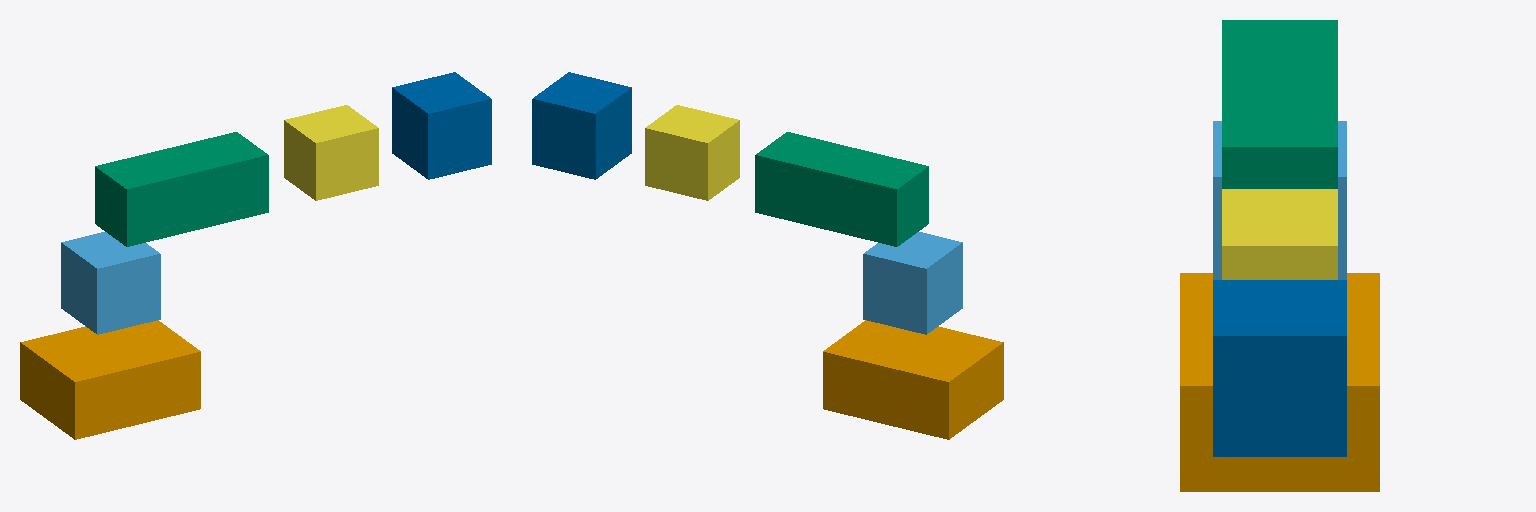
URDF robot description (twin_demo):
<?xml version="1.0"?>
<!-- Test robot for aprilfold twin: one joint of every supported type. -->
<robot name="twin_demo">
  <link name="base">
    <visual><origin xyz="0 0 0.035"/><geometry><box size="0.16 0.12 0.07"/></geometry></visual>
  </link>
  <link name="carriage">
    <visual><origin xyz="0 0 0.04"/><geometry><box size="0.08 0.08 0.08"/></geometry></visual>
  </link>
  <link name="arm">
    <visual><origin xyz="0.09 0 0"/><geometry><box size="0.18 0.07 0.07"/></geometry></visual>
  </link>
  <link name="tool">
    <visual><origin xyz="0.04 0 0"/><geometry><box size="0.08 0.07 0.07"/></geometry></visual>
  </link>
  <link name="wheel">
    <visual><origin xyz="0.04 0 0"/><geometry><box size="0.08 0.08 0.08"/></geometry></visual>
  </link>

  <joint name="slide" type="prismatic">
    <parent link="base"/><child link="carriage"/>
    <origin xyz="0 0 0.11"/><axis xyz="1 0 0"/>
    <limit lower="-0.03" upper="0.03" effort="1" velocity="1"/>
  </joint>
  <joint name="hinge" type="revolute">
    <parent link="carriage"/><child link="arm"/>
    <origin xyz="0 0 0.13"/><axis xyz="0 0 1"/>
    <limit lower="-1.2" upper="1.2" effort="1" velocity="1"/>
  </joint>
  <joint name="mount" type="fixed">
    <parent link="arm"/><child link="tool"/>
    <origin xyz="0.24 0 0"/>
  </joint>
  <joint name="spin" type="continuous">
    <parent link="tool"/><child link="wheel"/>
    <origin xyz="0.14 0 0"/><axis xyz="1 0 0"/>
  </joint>
</robot>

--- Facts derived from the render (not from the file) ---
3 views of the same robot in one strip: view 1: azimuth 30°, elevation 25°; view 2: azimuth 150°, elevation 25°; view 3: azimuth 270°, elevation 25° (orthographic).
Robot: twin_demo — 5 links, 4 joints (1 revolute, 1 continuous, 1 prismatic, 1 fixed); root link base; default pose: all joints at 0.
Links seen in each view (by area): view 1: base, arm, wheel, carriage, tool; view 2: base, arm, wheel, carriage, tool; view 3: wheel, arm, base, tool, carriage.
Boxes of the visible links, x1,y1,x2,y2 form: base: (20, 320, 200, 439); arm: (95, 132, 268, 246); wheel: (392, 72, 491, 179); carriage: (61, 232, 160, 334); tool: (284, 105, 378, 200); base: (823, 320, 1003, 439); arm: (755, 132, 928, 246); wheel: (532, 72, 631, 179); carriage: (863, 232, 962, 334); tool: (645, 105, 739, 200); wheel: (1213, 280, 1346, 456); arm: (1222, 20, 1337, 188); base: (1180, 273, 1379, 491); tool: (1222, 189, 1337, 279); carriage: (1213, 121, 1346, 279).
Bounding box of the posed robot: 0.54 × 0.12 × 0.28 m (x, y, z).
Geometry: primitives only (box / cylinder / sphere), no mesh files.
